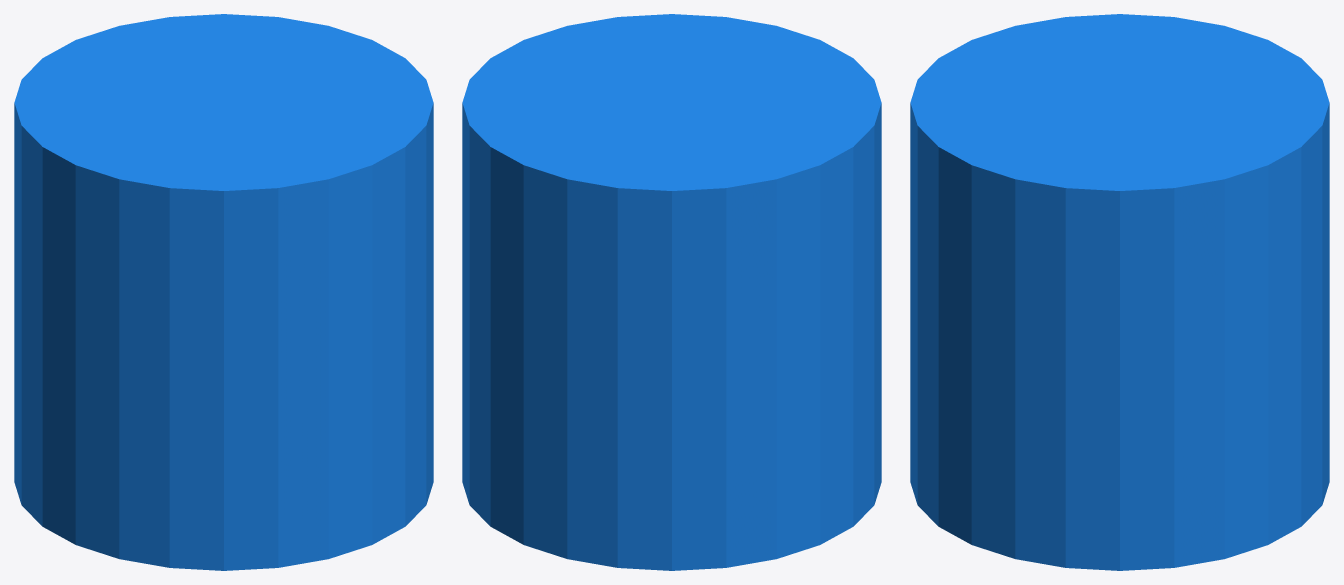
Rendered from Proto_Block_Cylinder_01.fbx.
3 views of the same model, side by side, from view 1: azimuth 30°, elevation 25°; view 2: azimuth 150°, elevation 25°; view 3: azimuth 270°, elevation 25° (orthographic).
Visible parts, largest first — view 1: Proto_Block_Cylinder_01; view 2: Proto_Block_Cylinder_01; view 3: Proto_Block_Cylinder_01.
Boxes of the visible parts, x1,y1,x2,y2 form: Proto_Block_Cylinder_01: [14, 14, 433, 570]; Proto_Block_Cylinder_01: [462, 14, 881, 570]; Proto_Block_Cylinder_01: [910, 14, 1329, 570].
Bounding box in the file's own units: 1 × 1 × 1.
